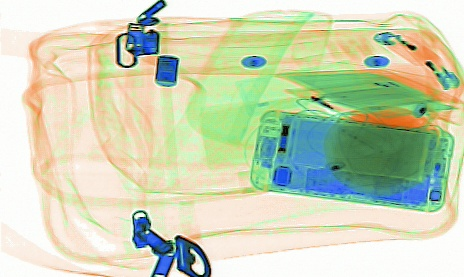lighter: (406, 37, 460, 91), (372, 29, 431, 67)
